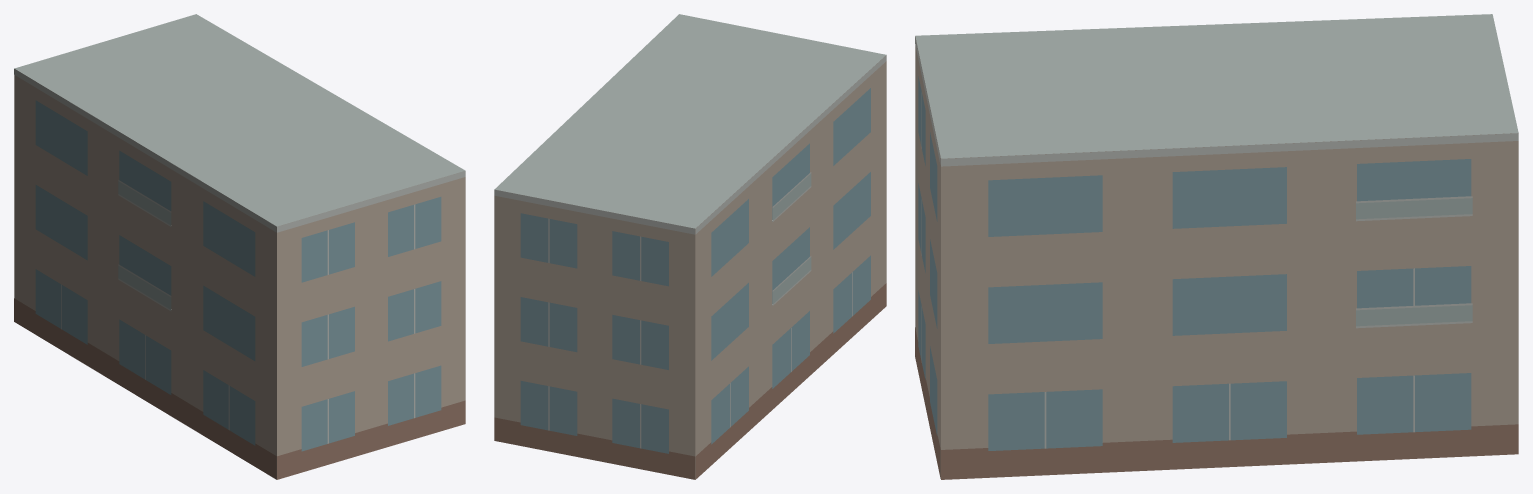
The model's file is survey-upis-32739784.glb.
3 views of the same model, side by side, from view 1: azimuth 30°, elevation 25°; view 2: azimuth 150°, elevation 25°; view 3: azimuth 270°, elevation 25° (orthographic). The views are drawn at different scales.
Parts seen in each view (by area): view 1: survey-upis-32739784.tmp; view 2: survey-upis-32739784.tmp; view 3: survey-upis-32739784.tmp.
Part boxes in pixels (left/top/right/bottom): survey-upis-32739784.tmp: left=14, top=14, right=465, bottom=479; survey-upis-32739784.tmp: left=494, top=14, right=886, bottom=479; survey-upis-32739784.tmp: left=915, top=14, right=1518, bottom=479.
Size of the model in its own units: 9.68 by 10 by 17.04.
